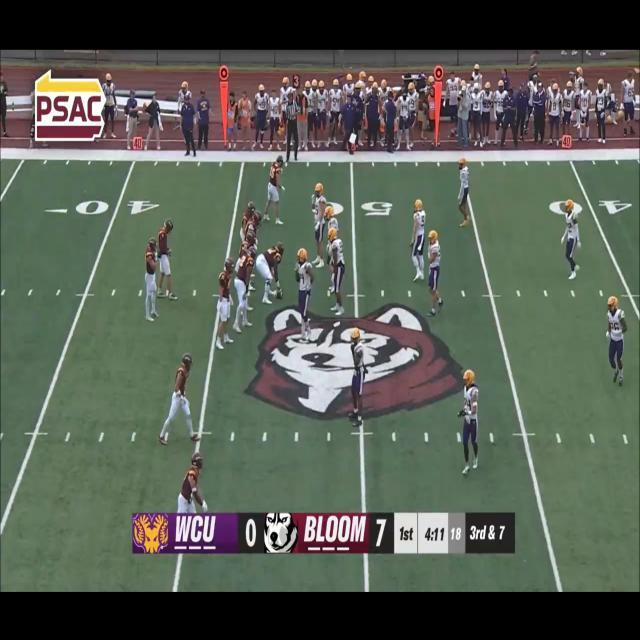football: (272, 288, 286, 302)
